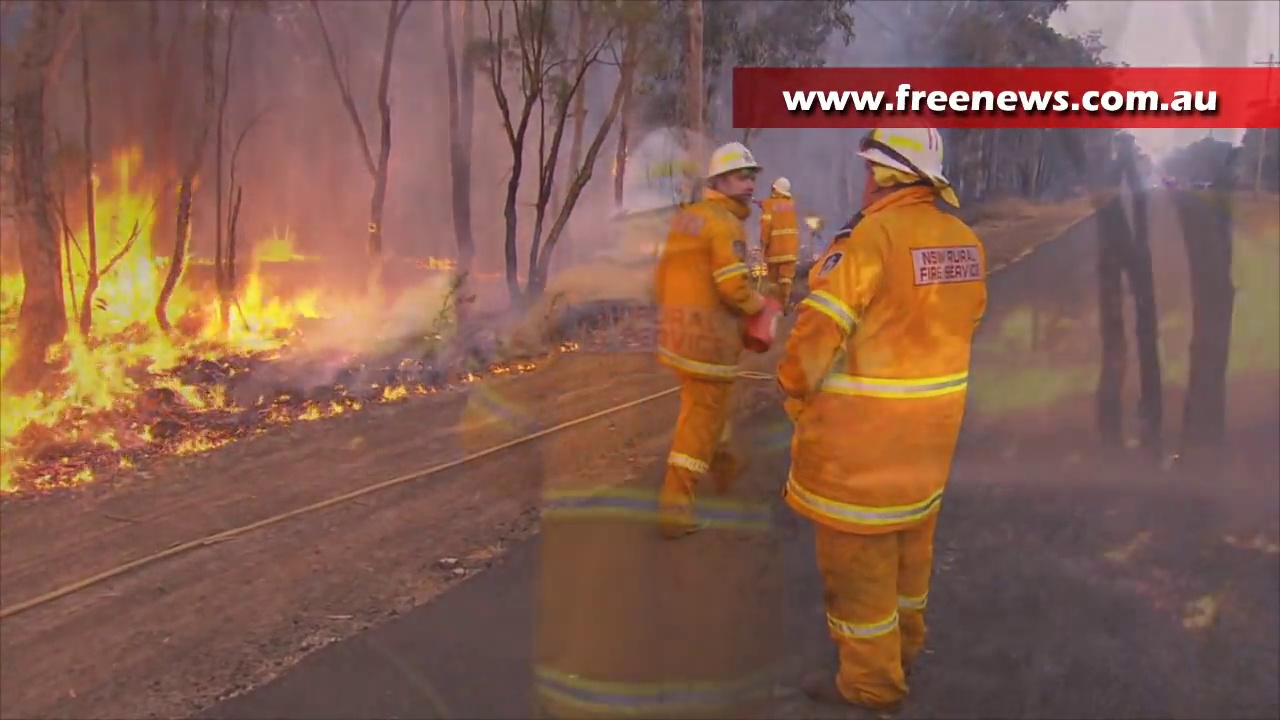fire: (1, 165, 324, 435)
